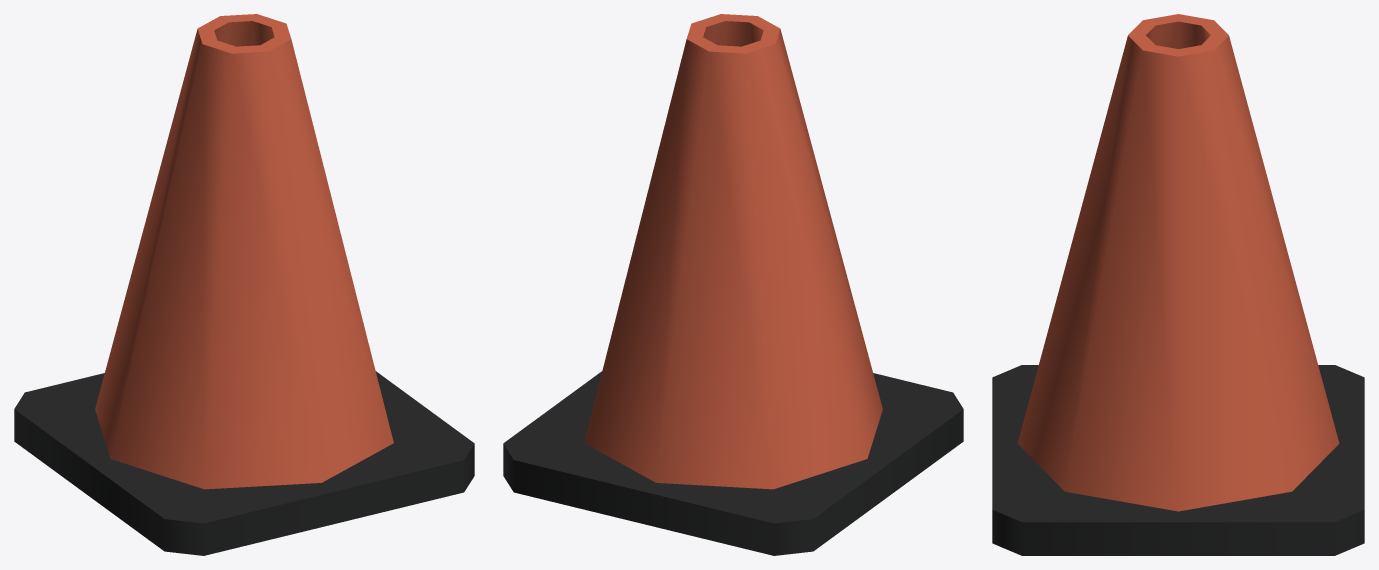
Rendered from Traffic_Cone.glb.
3 views of the same model, side by side, from view 1: azimuth 30°, elevation 25°; view 2: azimuth 150°, elevation 25°; view 3: azimuth 270°, elevation 25° (orthographic). The views are drawn at different scales.
Visible parts, largest first — view 1: Traffic Cone; view 2: Traffic Cone; view 3: Traffic Cone.
Part boxes in pixels (left/top/right/bottom): Traffic Cone: left=14, top=14, right=474, bottom=555; Traffic Cone: left=503, top=14, right=963, bottom=555; Traffic Cone: left=992, top=14, right=1364, bottom=555.
Bounding box in the file's own units: 2 × 2.62 × 2.
1 material, 1 textured.
